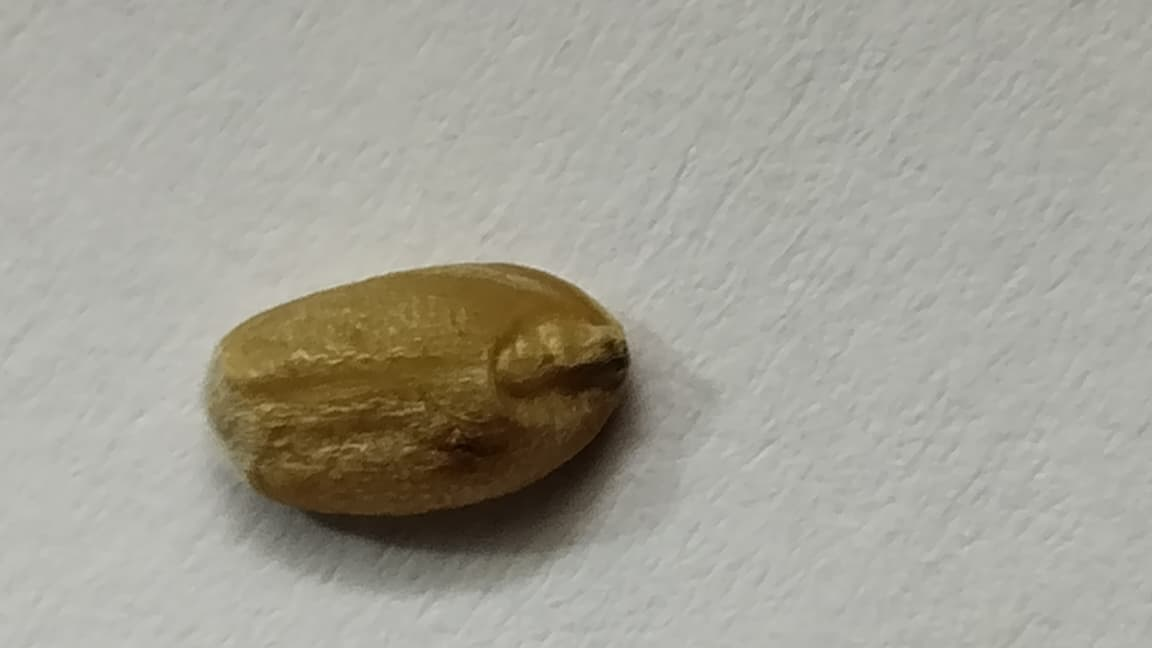black_point: (420, 400, 524, 476)
healthy: (205, 261, 635, 521)
